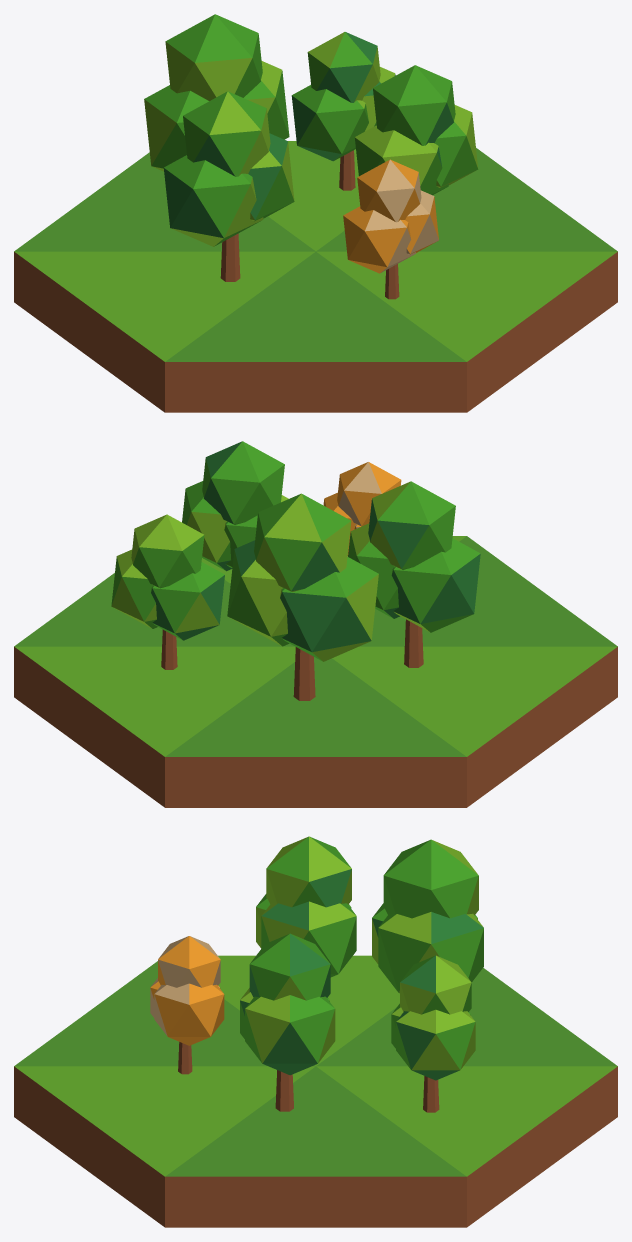
File: SM_Bosque_A_LOD0.fbx
3 renders of one model, top to bottom at view 1: azimuth 30°, elevation 25°; view 2: azimuth 150°, elevation 25°; view 3: azimuth 270°, elevation 25°, orthographic.
Visible parts, largest first — view 1: SM_Bosque_A_LOD0; view 2: SM_Bosque_A_LOD0; view 3: SM_Bosque_A_LOD0.
Boxes of the visible parts, box(x1,y1,x2,y2) form: SM_Bosque_A_LOD0: box(14, 14, 617, 412); SM_Bosque_A_LOD0: box(14, 441, 617, 807); SM_Bosque_A_LOD0: box(14, 836, 617, 1227).
Size of the model in its own units: 1.68 by 0.909 by 1.94.
